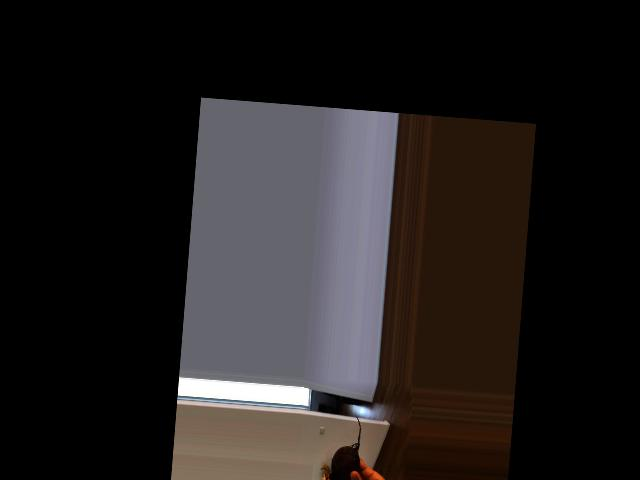beet: (328, 414, 363, 480)
